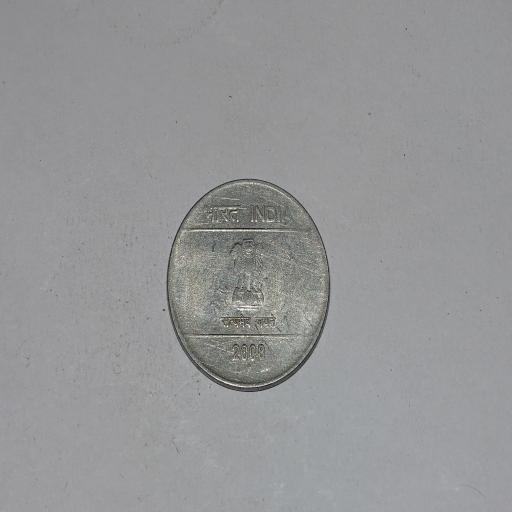rupee1: (165, 177, 332, 392)
